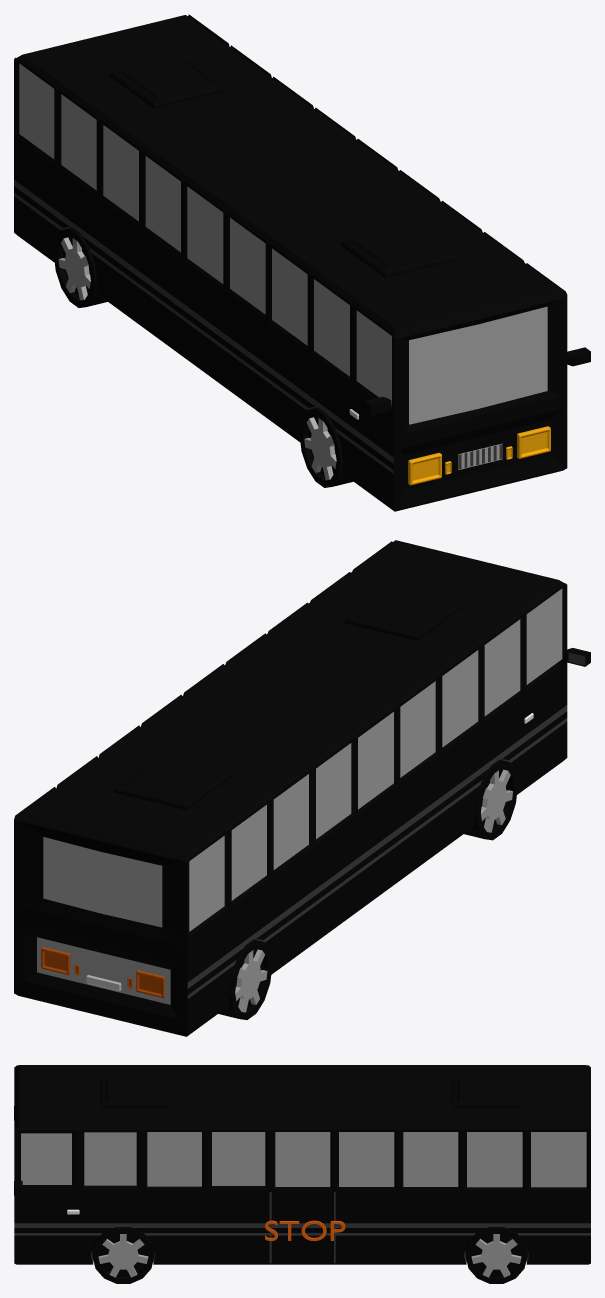
Rendered from BR WHEEL.006_BODY.019.glb.
The picture shows the model from 3 angles, top to bottom: view 1: azimuth 30°, elevation 25°; view 2: azimuth 150°, elevation 25°; view 3: azimuth 270°, elevation 25°; orthographic projection. The views are drawn at different scales.
Visible parts, largest first — view 1: BR WHEEL.006_BODY.019_0; view 2: BR WHEEL.006_BODY.019_0; view 3: BR WHEEL.006_BODY.019_0.
Part boxes in pixels (x1,y1,x2,y2): BR WHEEL.006_BODY.019_0: (14, 14, 590, 511); BR WHEEL.006_BODY.019_0: (14, 540, 590, 1036); BR WHEEL.006_BODY.019_0: (14, 1065, 590, 1283).
Bounding box in the file's own units: 0.4513 × 0.4152 × 1.35.
Materials: 1 (1 with a texture image).
